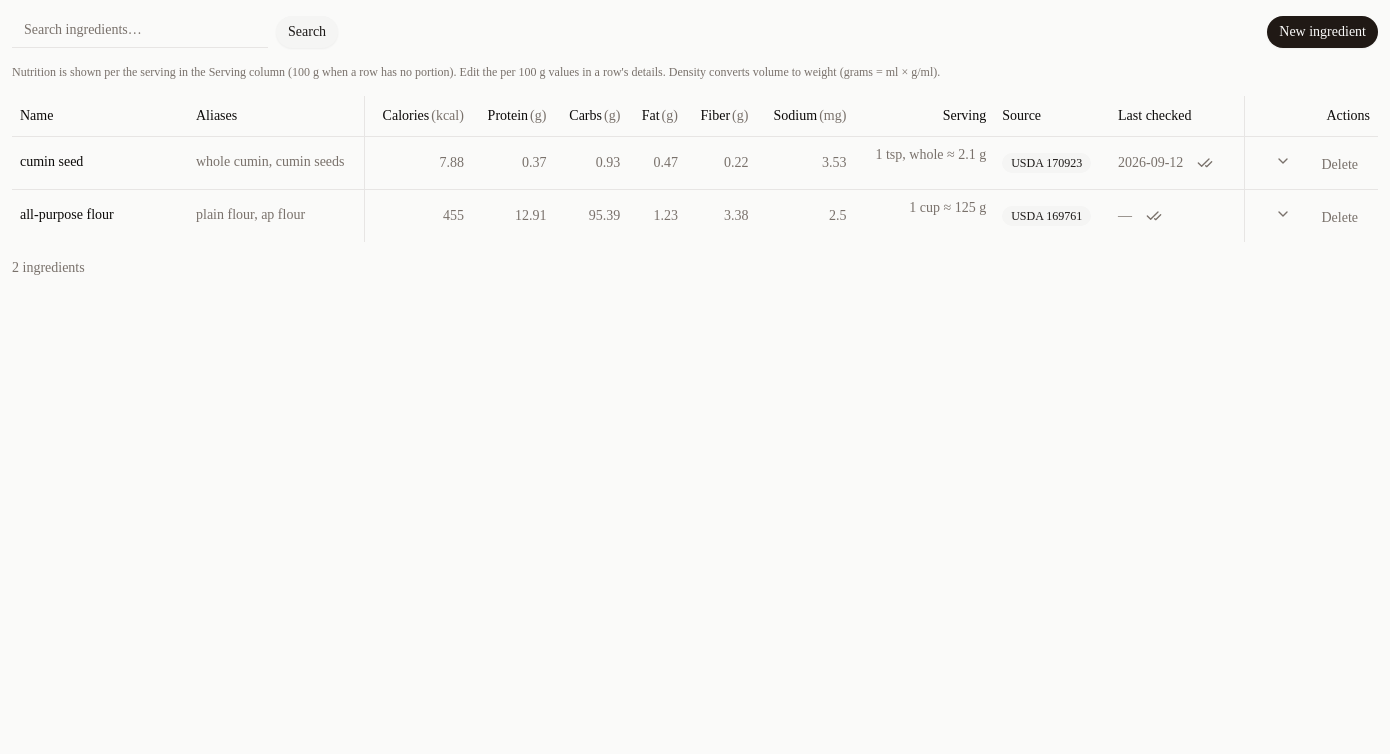
IngredientsTable › previews a live nutrition label in the drawer with a portion selector
The width and height of the screenshot is (1390, 754).
Click the button named "Details for cumin seed".
click(1284, 160)  # box [1266, 144, 1302, 176]
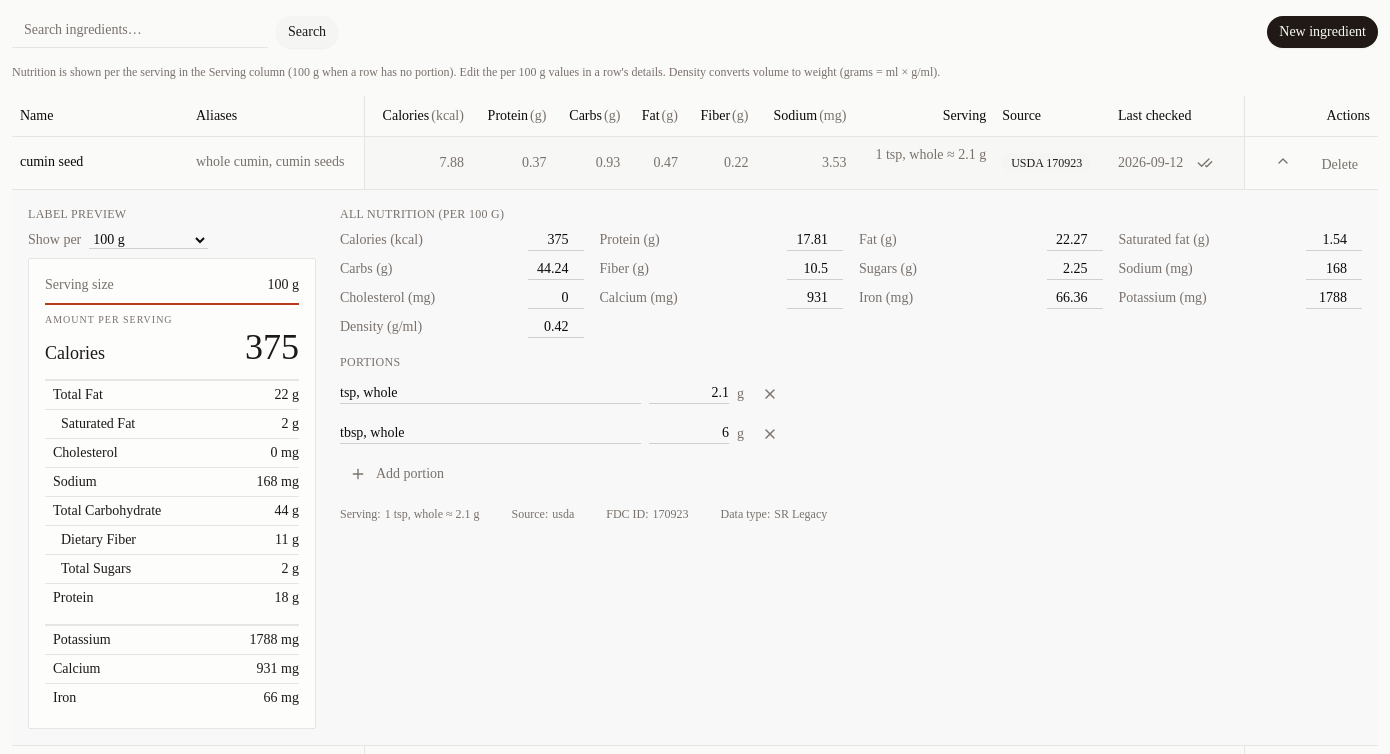
Result: the text "375" is shown at [245, 329, 299, 365]
Replace the text in the number field named "Calories (kcal) for cumin seed" with "400" at (556, 240), box [528, 230, 584, 250]
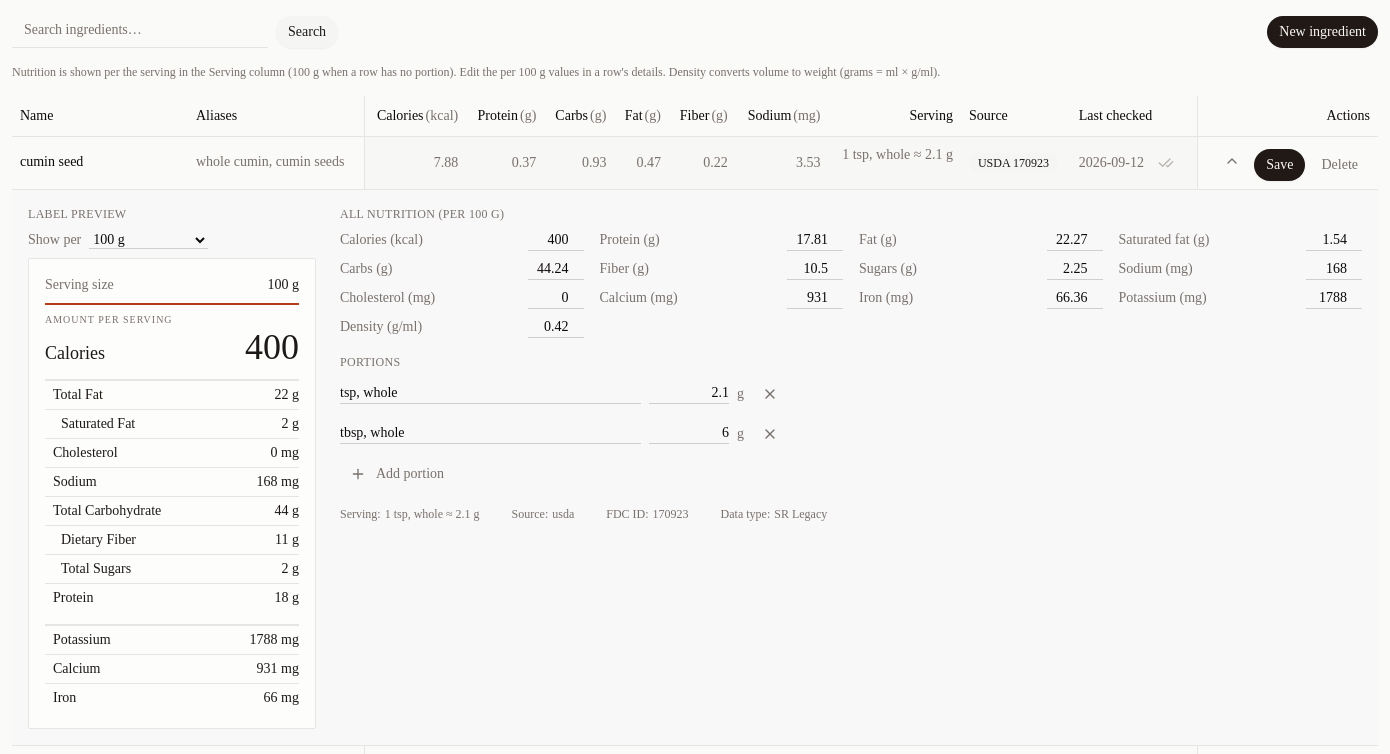
Result: the text "400" is shown at [245, 329, 299, 365]
Select "tbsp, whole (6 g)" in the dropdown named "Nutrition label portion for cumin seed" at (149, 240), box [89, 230, 208, 248]
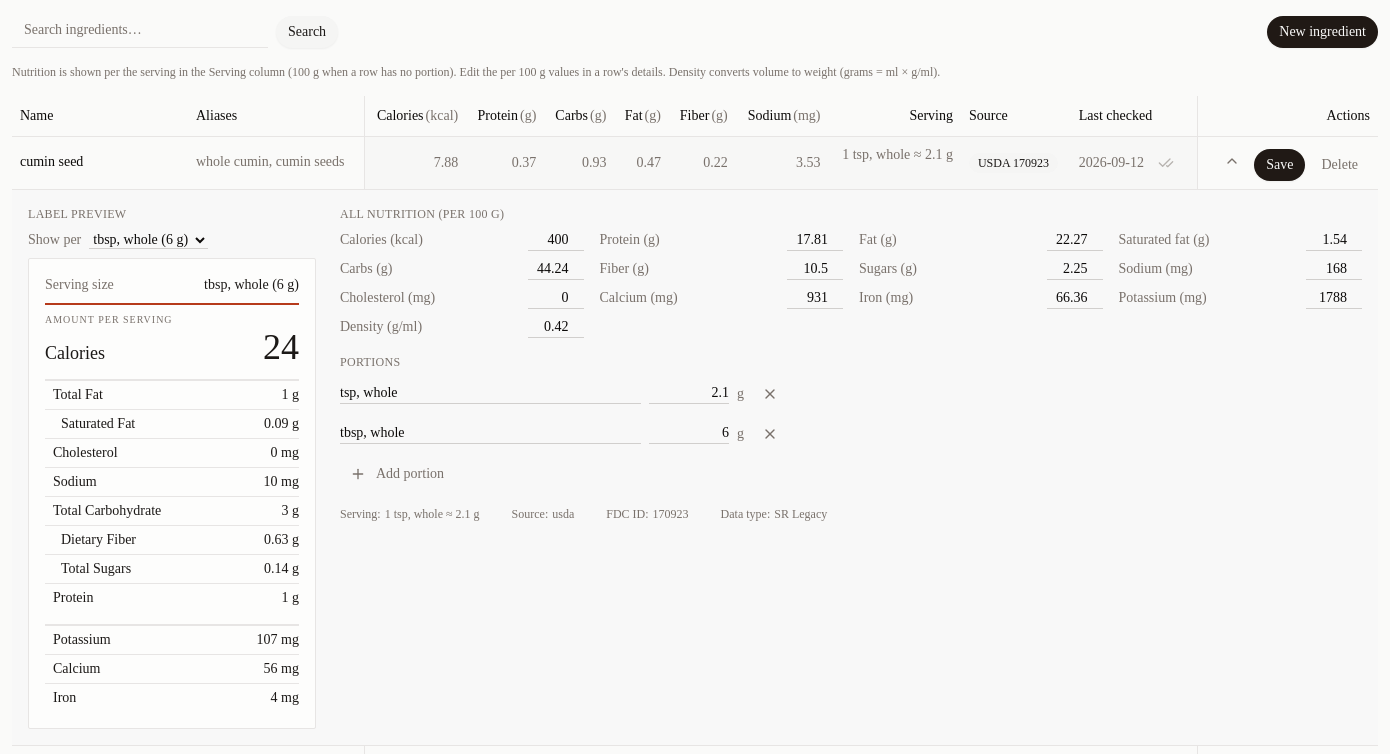
Result: the text "24" is shown at [263, 329, 299, 365]
